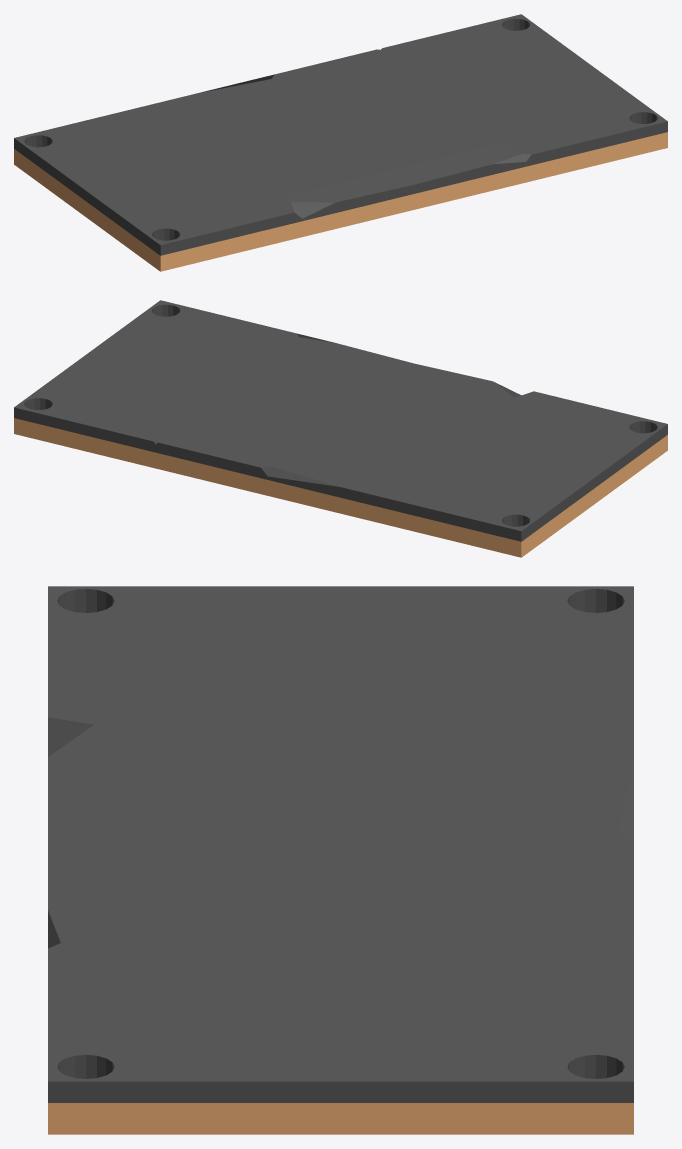
The model's file is 1x2_Scaffold.fbx.
3 renders of one model, top to bottom at view 1: azimuth 30°, elevation 25°; view 2: azimuth 150°, elevation 25°; view 3: azimuth 270°, elevation 25°, orthographic. The views are drawn at different scales.
Parts seen in each view (by area): view 1: 1x2 Scaffold; view 2: 1x2 Scaffold; view 3: 1x2 Scaffold.
Part boxes in pixels (x1=…): 1x2 Scaffold: x1=14, y1=14, x2=667, y2=271; 1x2 Scaffold: x1=14, y1=300, x2=667, y2=557; 1x2 Scaffold: x1=48, y1=586, x2=633, y2=1134.
Bounding box in the file's own units: 200 × 10 × 100.
